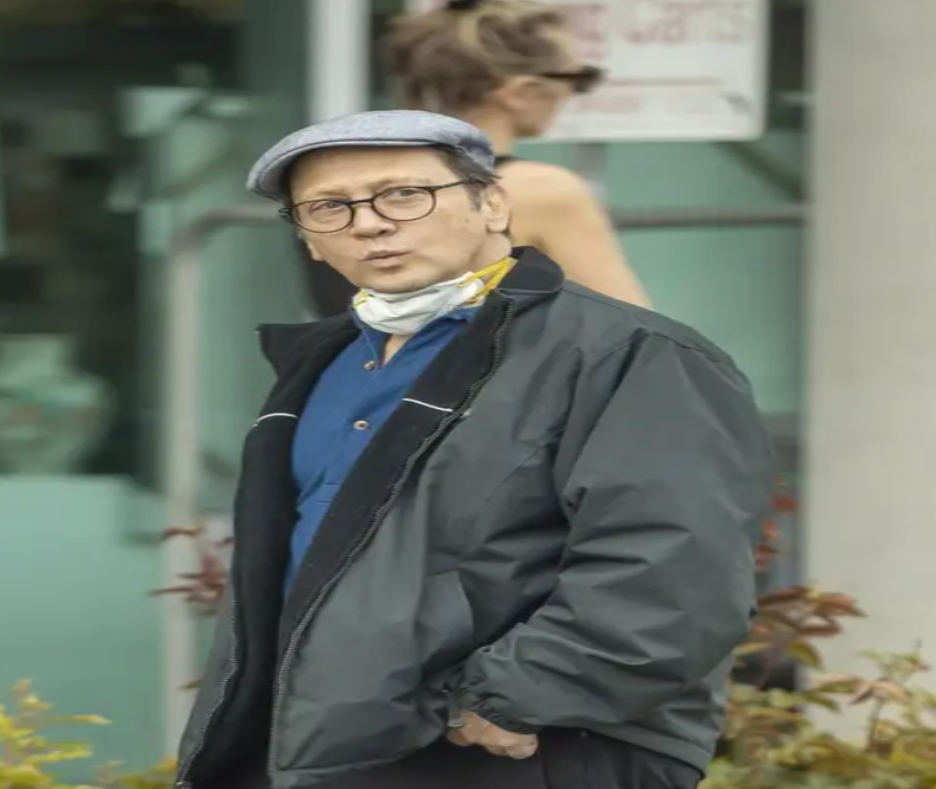mask_weared_incorrect: (244, 104, 540, 339)
